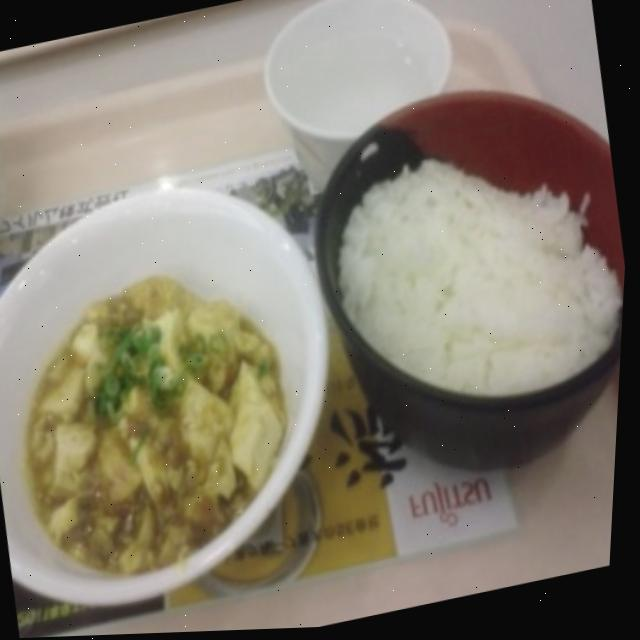米饭主食: (280, 53, 637, 516)
